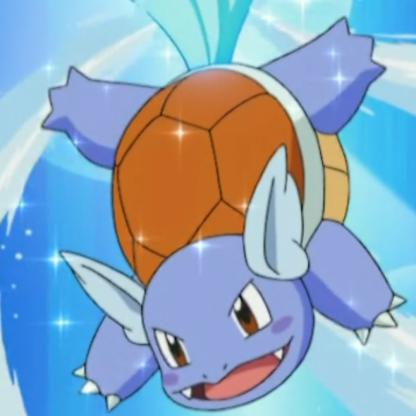Wartortle: (32, 41, 416, 416)
